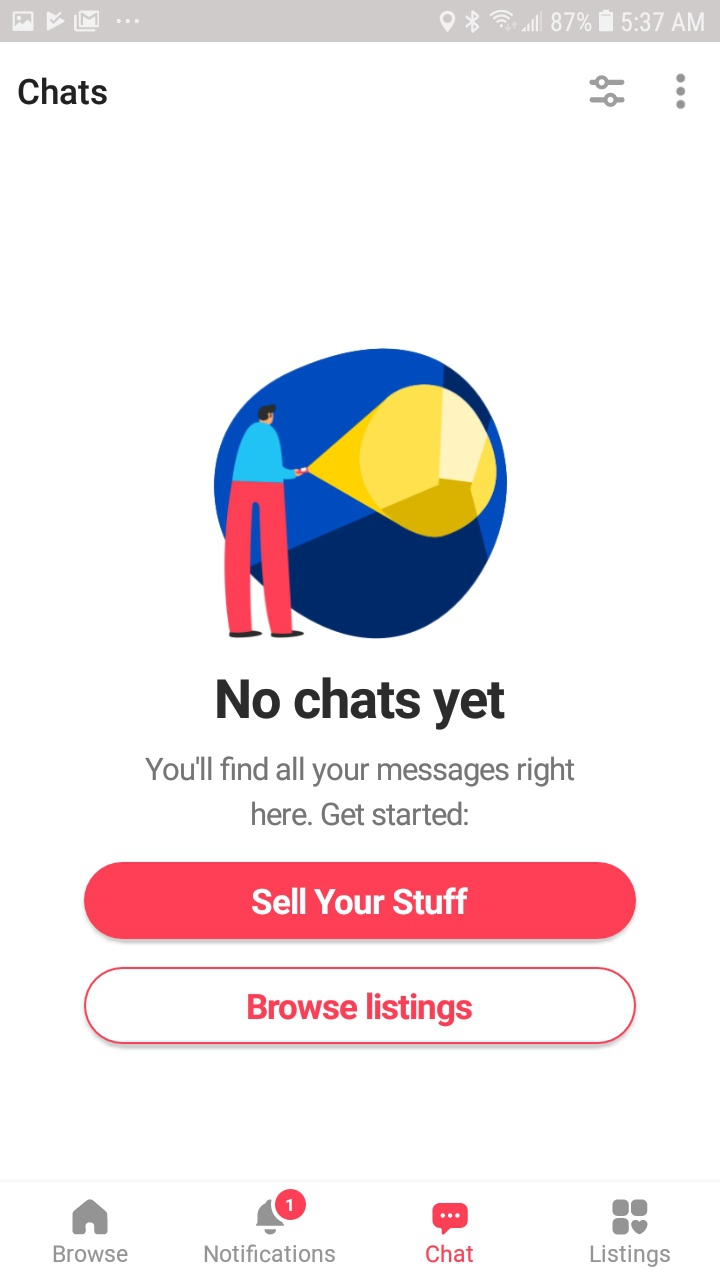Icon: (256, 1188, 307, 1235), (611, 1199, 648, 1236), (72, 1198, 109, 1235), (589, 75, 625, 109), (432, 1202, 469, 1235), (675, 74, 686, 111)
Image: (213, 348, 508, 640)
Text: (145, 755, 575, 826), (217, 677, 506, 731), (205, 1243, 336, 1263), (19, 77, 108, 106), (590, 1244, 671, 1268), (54, 1245, 129, 1263), (425, 1244, 474, 1263)
TextButton: (84, 966, 637, 1045), (84, 862, 637, 940)
UpperTaskBar: (1, 1, 720, 43)
